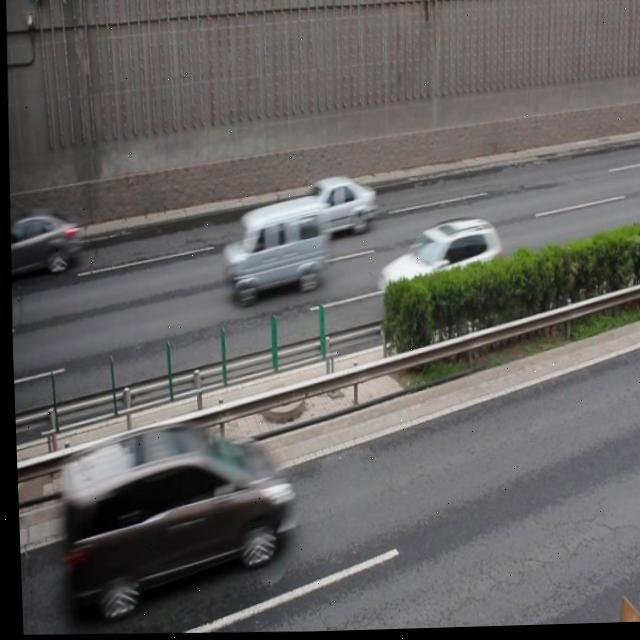car: (369, 216, 499, 327), (288, 173, 374, 241), (7, 207, 78, 281)
truck: (55, 420, 290, 618), (216, 194, 327, 306)
